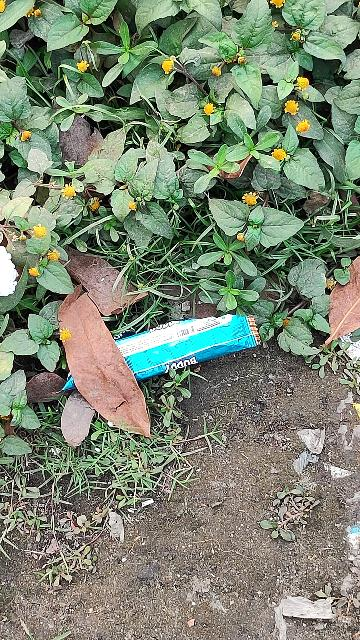packet: (116, 326, 135, 330)
